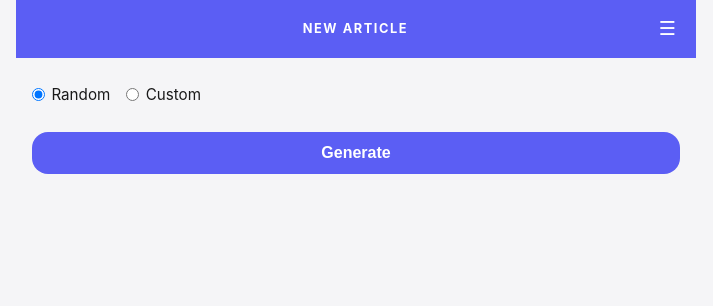
Test: NewArticlePage mode selector › switching to Custom reveals the textarea
What coordinates should you click on to do the following:
click the radio button labelled "Custom"
I would click on:
 (133, 95)
Its box is x1=126 y1=88 x2=139 y2=101.
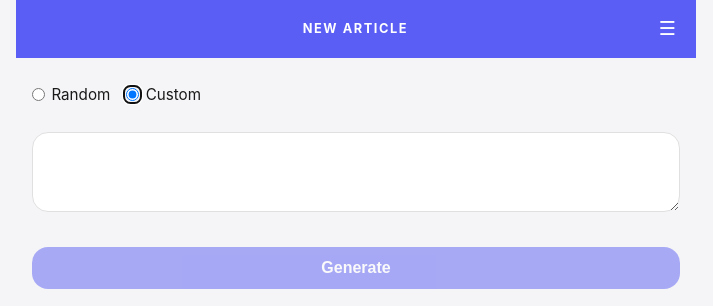
Result: the text box named "Custom topic" is shown at x1=32 y1=132 x2=680 y2=212
